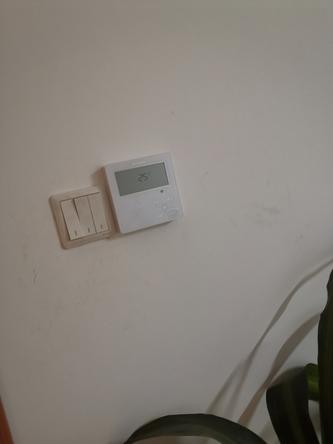switch: (73, 191, 95, 241), (59, 196, 82, 242), (87, 187, 110, 233)
